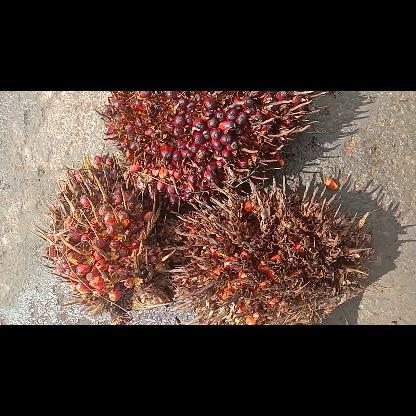TBS masak: (98, 91, 318, 204), (31, 152, 173, 324)
Terlalu masak: (163, 176, 374, 324)
